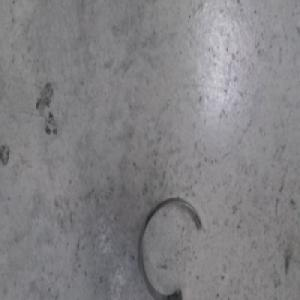AdjustableClamp: (139, 196, 206, 296)
